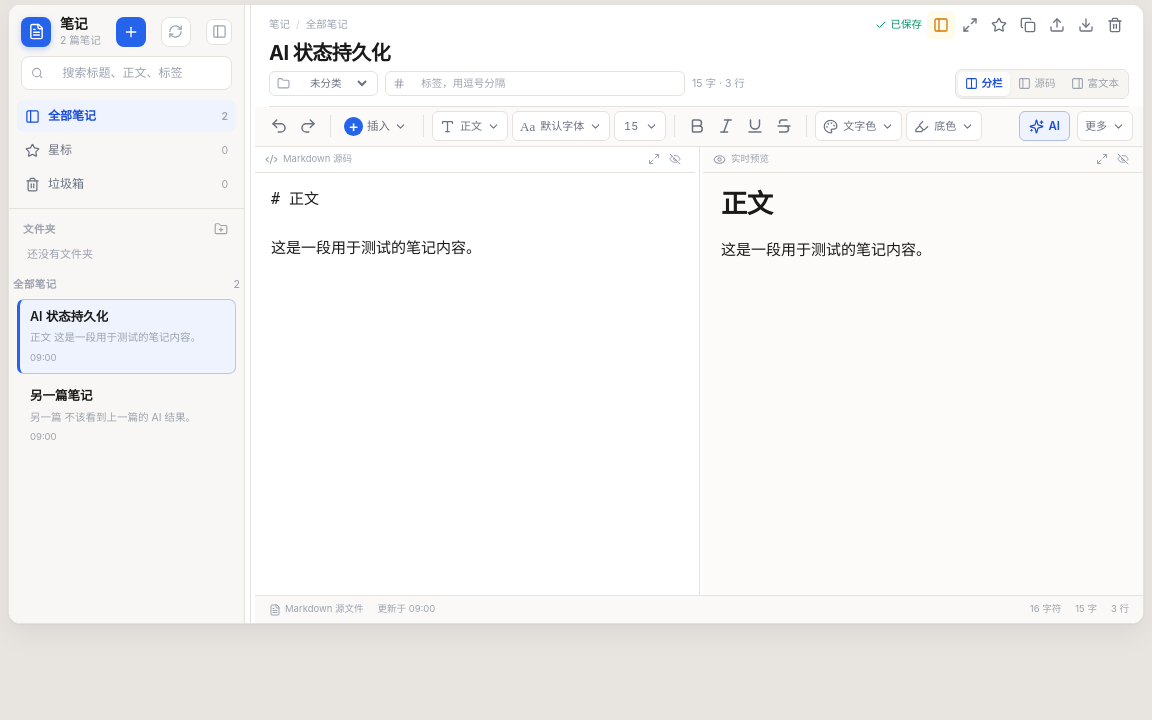
Test: MarkdownNotesPage AI 状态恢复 › 切到另一篇笔记再切回来，上一篇的 AI 面板和润色结果仍在
This screenshot has width=1152, height=720.
Click the button titled "打开笔记 AI 助手".
click(1045, 126)  # box [1019,111,1070,141]
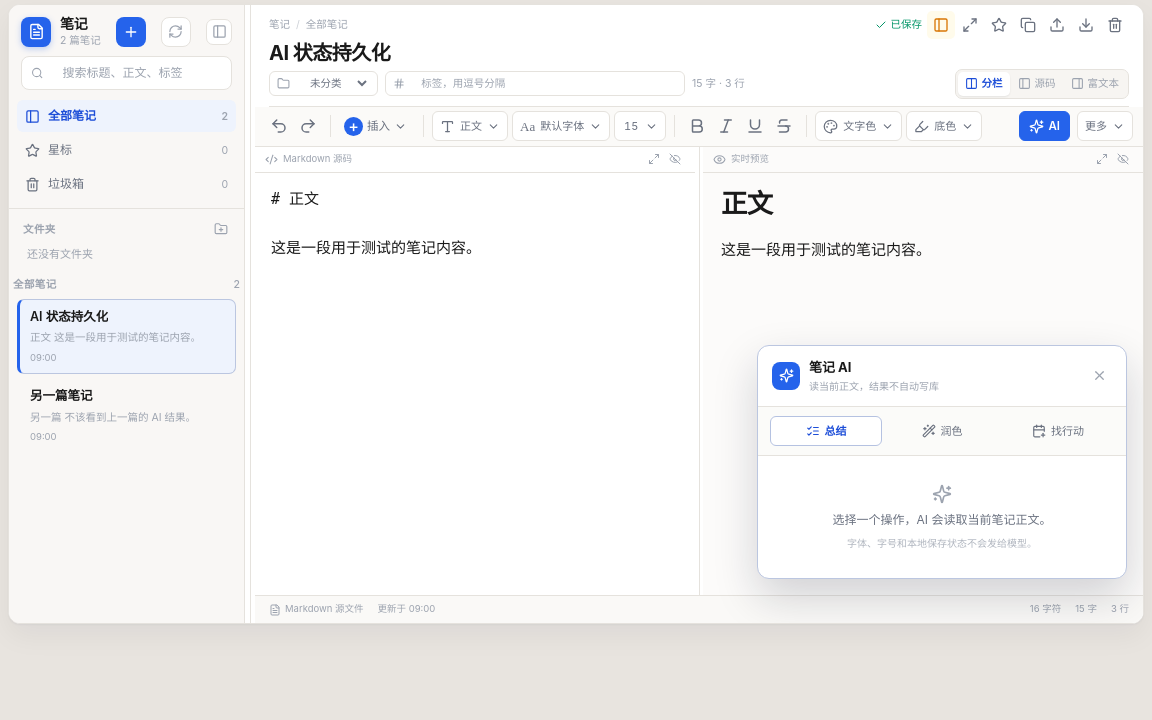
Click the button "润色".
click(942, 431)  # box [886,416,998,446]
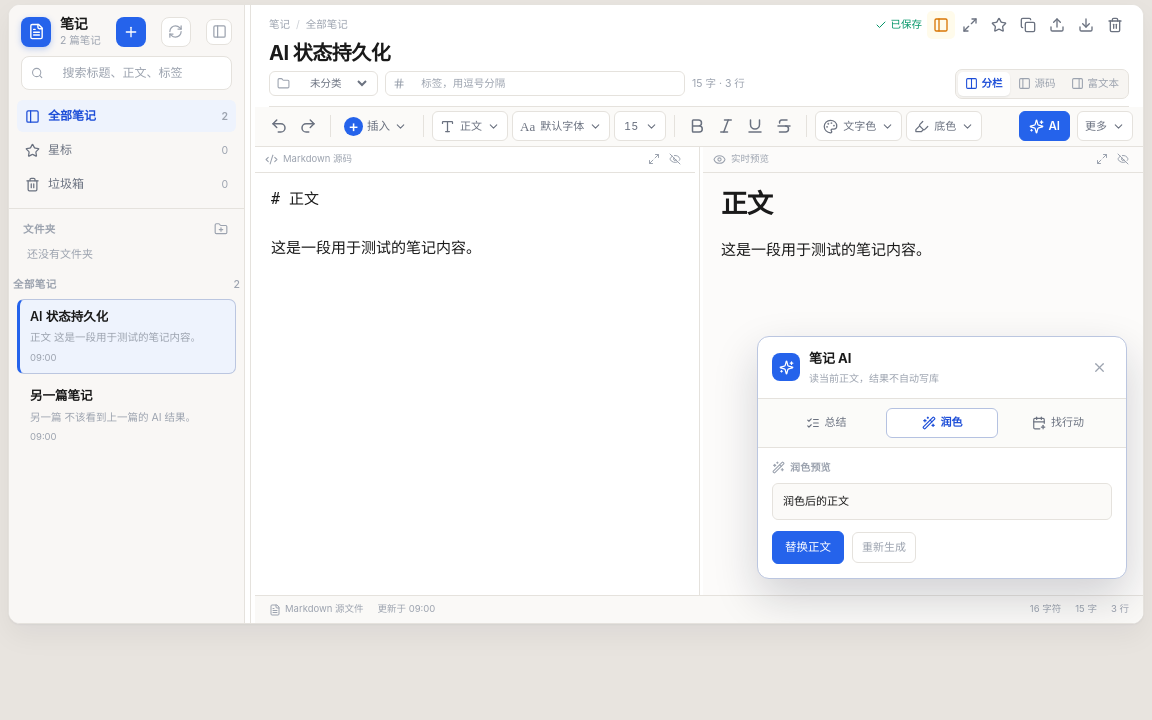
Now the text "润色预览" is shown, box [772,461,831,474]
